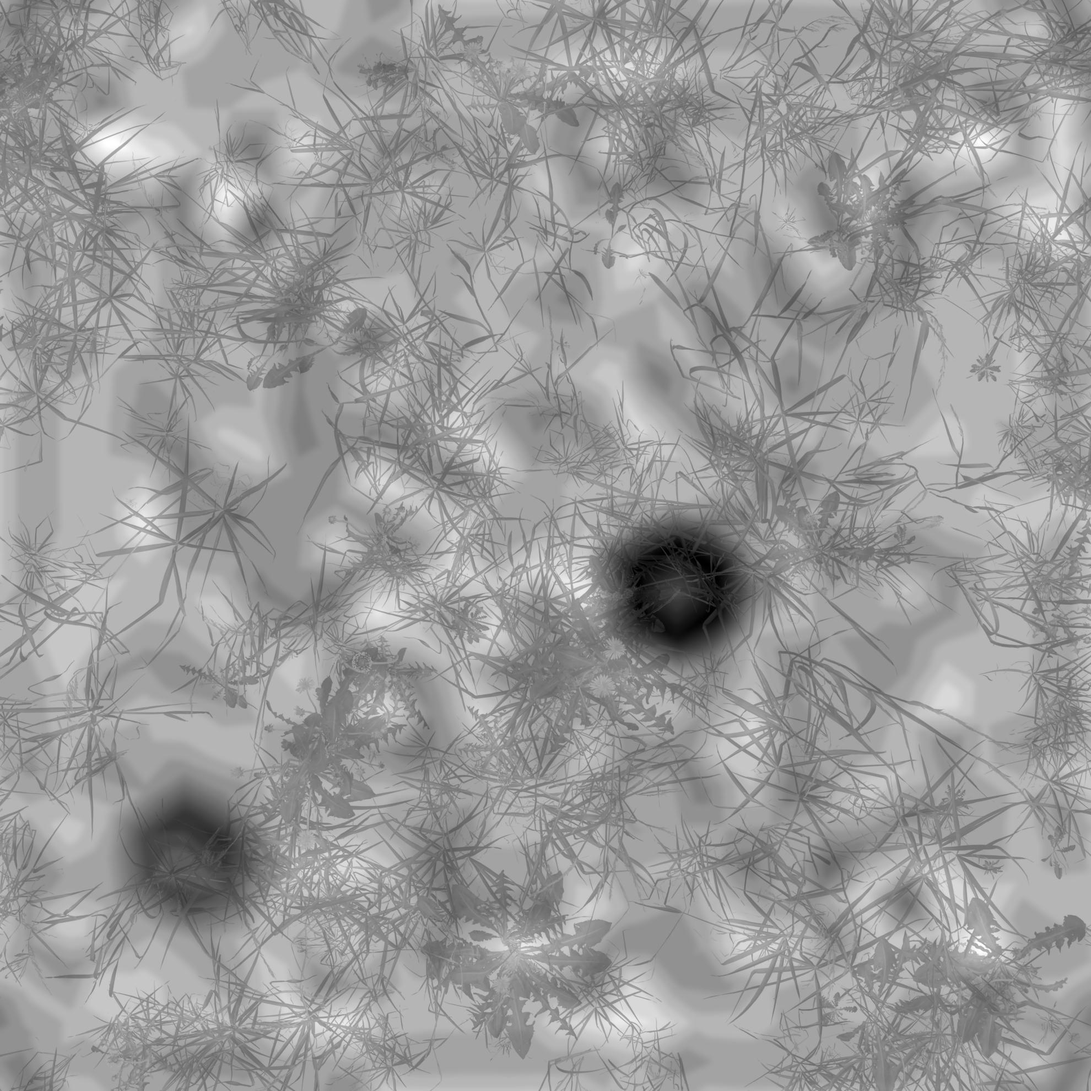landmine: (600, 511, 758, 658), (118, 791, 259, 930)
